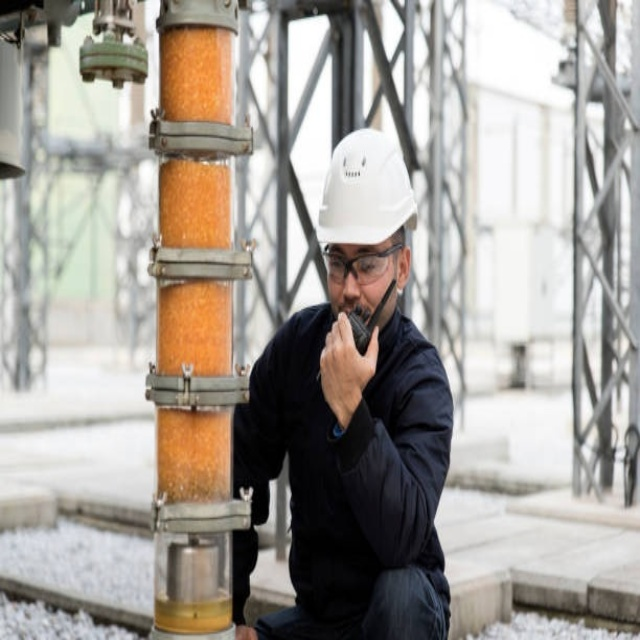Gafas: (323, 242, 402, 285)
Sin_guantes: (318, 312, 379, 423)
